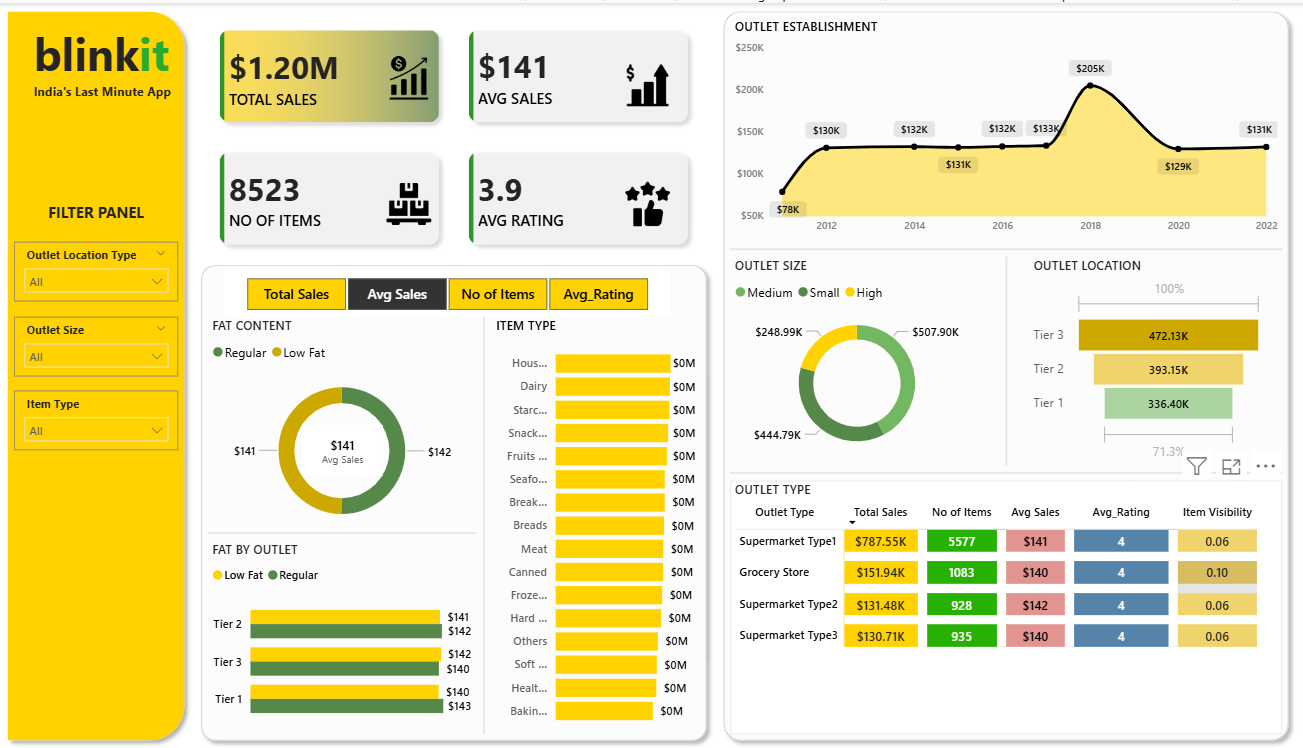

Layout of this report page (visuals, bound fields, positions):
{"tool":"powerbi","page":{"name":"Page 1","canvas":[1400,800],"ordinal":0},"visuals":[{"type":"shape","box":[0,0,208,800],"z":0},{"type":"textbox","box":[32,16,176,80],"z":1000},{"type":"textbox","box":[32,80,176,32],"z":2000},{"type":"cardVisual","fields":{"Data":["BlinkIT Grocery Data.Total Sales","BlinkIT Grocery Data.Avg Sales","BlinkIT Grocery Data.No  of Items","BlinkIT Grocery Data.Avg_Rating"]},"box":[208,0,560,288],"z":3000},{"type":"image","box":[672,64,48,48],"z":4000},{"type":"image","box":[416,48,48,64],"z":5000},{"type":"image","box":[416,176,48,80],"z":6000},{"type":"image","box":[672,192,48,48],"z":7000},{"type":"shape","box":[208,272,560,528],"z":8000},{"type":"donutChart","title":"FAT CONTENT","fields":{"Y":["BlinkIT Grocery Data.Total Sales"],"Category":["BlinkIT Grocery Data.Item Fat Content"]},"box":[224,336,288,240],"z":9000},{"type":"slicer","fields":{"Values":["Metrics.Metrics"]},"box":[240,288,480,48],"z":10000},{"type":"cardVisual","fields":{"Data":["BlinkIT Grocery Data.Total Sales"]},"box":[320,448,96,64],"z":11000},{"type":"clusteredBarChart","title":"FAT BY OUTLET","fields":{"Y":["BlinkIT Grocery Data.Total Sales"],"Category":["BlinkIT Grocery Data.Outlet Location Type"],"Series":["BlinkIT Grocery Data.Item Fat Content"]},"box":[224,576,288,208],"z":12000},{"type":"shape","box":[224,560,288,16],"z":13000},{"type":"shape","box":[512,336,16,448],"z":14000},{"type":"barChart","title":"ITEM TYPE","fields":{"Y":["BlinkIT Grocery Data.Total Sales"],"Category":["BlinkIT Grocery Data.Item Type"]},"box":[528,336,224,448],"z":15000},{"type":"shape","box":[768,0,624,800],"z":16000},{"type":"lineChart","title":"OUTLET ESTABLISHMENT","fields":{"Y":["BlinkIT Grocery Data.Total Sales"],"Category":["BlinkIT Grocery Data.Outlet Establishment Year"]},"box":[784,16,592,240],"z":17000},{"type":"shape","box":[784,256,592,16],"z":18000},{"type":"donutChart","title":"OUTLET SIZE","fields":{"Y":["BlinkIT Grocery Data.Total Sales"],"Category":["BlinkIT Grocery Data.Outlet Size"]},"box":[784,272,272,224],"z":19000},{"type":"shape","box":[1072,272,16,224],"z":20000},{"type":"funnel","title":"OUTLET LOCATION","fields":{"Y":["Sum(BlinkIT Grocery Data.Sales)"],"Category":["BlinkIT Grocery Data.Outlet Location Type"]},"box":[1104,272,256,224],"z":21000},{"type":"shape","box":[784,496,592,16],"z":22000},{"type":"pivotTable","title":"OUTLET TYPE","fields":{"Rows":["BlinkIT Grocery Data.Outlet Type"],"Values":["BlinkIT Grocery Data.Total Sales","BlinkIT Grocery Data.No  of Items","BlinkIT Grocery Data.Avg Sales","BlinkIT Grocery Data.Avg_Rating","Avg(BlinkIT Grocery Data.Item Visibility)"]},"box":[784,512,592,272],"z":23000},{"type":"slicer","fields":{"Values":["BlinkIT Grocery Data.Outlet Location Type"]},"box":[16,256,176,64],"z":24000},{"type":"slicer","fields":{"Values":["BlinkIT Grocery Data.Outlet Size"]},"box":[16,336,176,64],"z":25000},{"type":"slicer","fields":{"Values":["BlinkIT Grocery Data.Item Type"]},"box":[16,416,176,64],"z":26000},{"type":"textbox","box":[16,208,176,32],"z":26001}]}

Visuals, with their boxes in screenshot pixels (x1, y1, x2, y2), scaled from the page's 1400x800 canvas onto the 1303x748 screenshot:
shape: <region>0, 0, 194, 747</region>
textbox: <region>30, 15, 194, 90</region>
textbox: <region>30, 75, 194, 105</region>
cardVisual - BlinkIT Grocery Data.Total Sales x BlinkIT Grocery Data.Avg Sales: <region>194, 0, 715, 269</region>
image: <region>625, 60, 670, 105</region>
image: <region>387, 45, 432, 105</region>
image: <region>387, 165, 432, 239</region>
image: <region>625, 180, 670, 224</region>
shape: <region>194, 254, 715, 747</region>
"FAT CONTENT" donutChart: <region>208, 314, 477, 539</region>
slicer - Metrics.Metrics: <region>223, 269, 670, 314</region>
cardVisual - BlinkIT Grocery Data.Total Sales: <region>298, 419, 387, 479</region>
"FAT BY OUTLET" clusteredBarChart: <region>208, 539, 477, 733</region>
shape: <region>208, 524, 477, 539</region>
shape: <region>477, 314, 491, 733</region>
"ITEM TYPE" barChart: <region>491, 314, 700, 733</region>
shape: <region>715, 0, 1296, 747</region>
"OUTLET ESTABLISHMENT" lineChart: <region>730, 15, 1281, 239</region>
shape: <region>730, 239, 1281, 254</region>
"OUTLET SIZE" donutChart: <region>730, 254, 983, 464</region>
shape: <region>998, 254, 1013, 464</region>
"OUTLET LOCATION" funnel: <region>1028, 254, 1266, 464</region>
shape: <region>730, 464, 1281, 479</region>
"OUTLET TYPE" pivotTable: <region>730, 479, 1281, 733</region>
slicer - BlinkIT Grocery Data.Outlet Location Type: <region>15, 239, 179, 299</region>
slicer - BlinkIT Grocery Data.Outlet Size: <region>15, 314, 179, 374</region>
slicer - BlinkIT Grocery Data.Item Type: <region>15, 389, 179, 449</region>
textbox: <region>15, 194, 179, 224</region>
